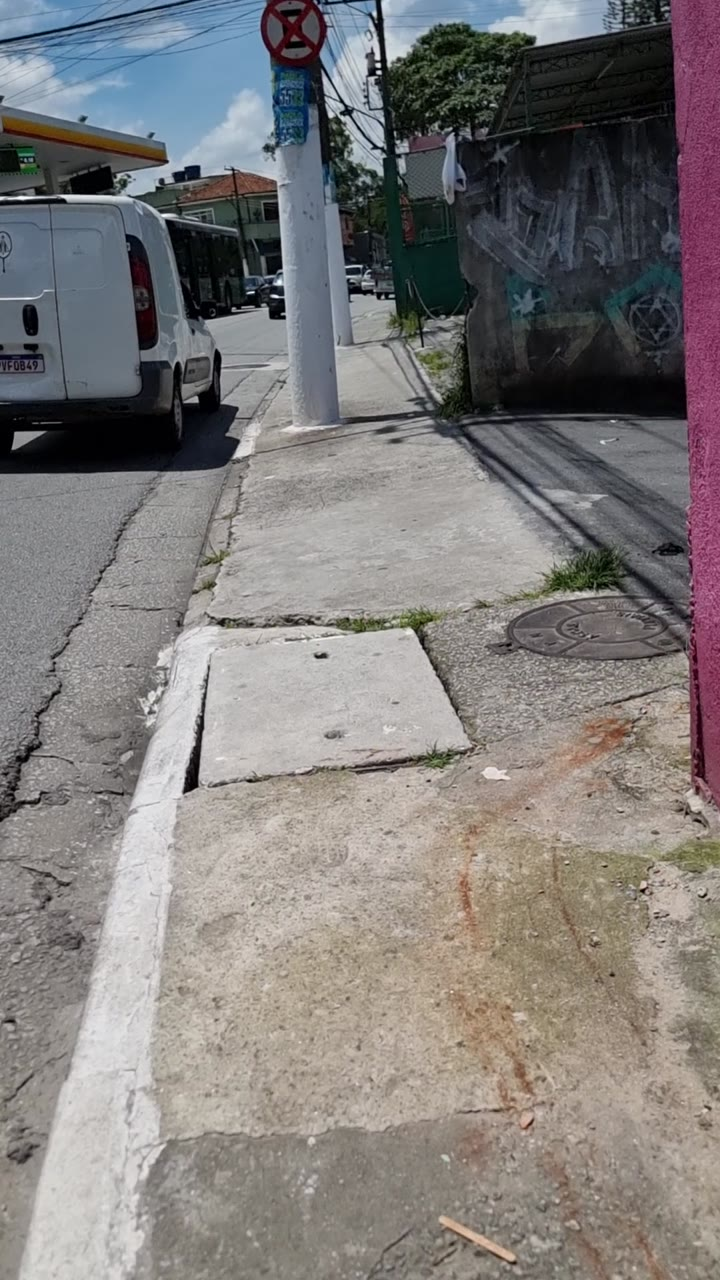desnivel: (198, 629, 467, 789)
obstaculo: (288, 0, 346, 435)
